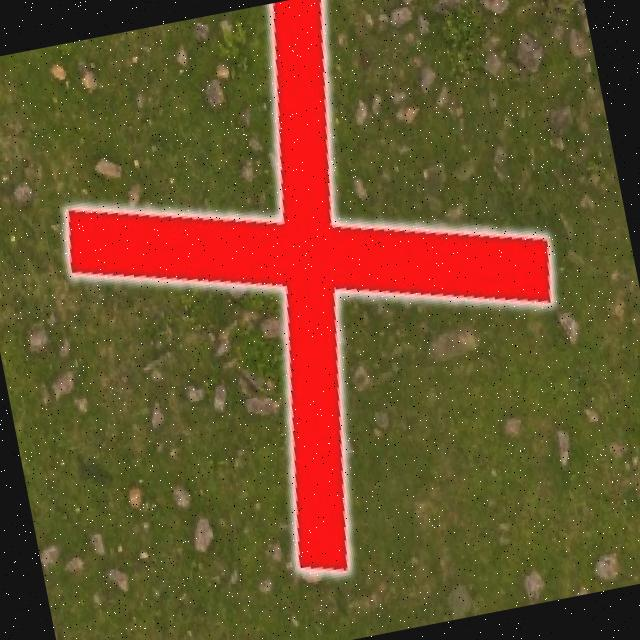x_marker: (28, 0, 600, 611)
